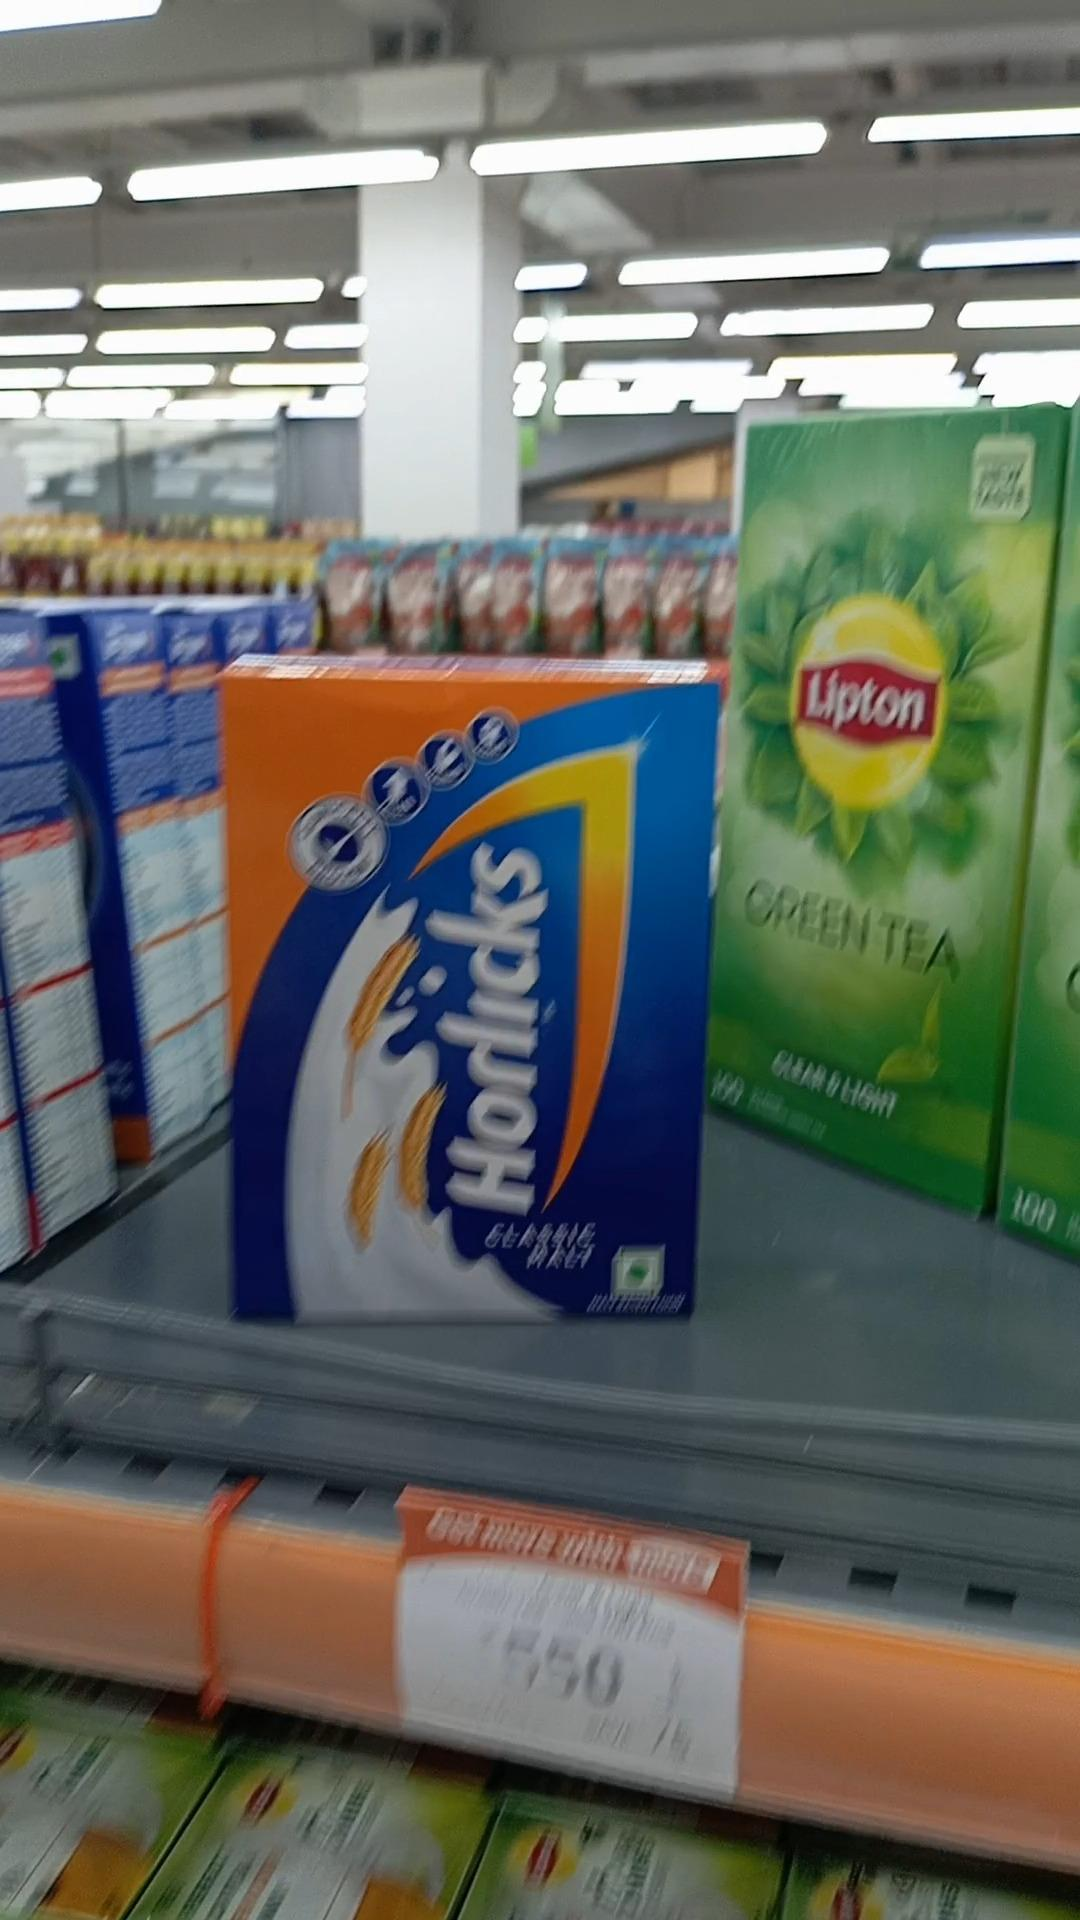HORLICK_CLASSIC_MALT_500_G_PACK: (227, 675, 729, 1315)
